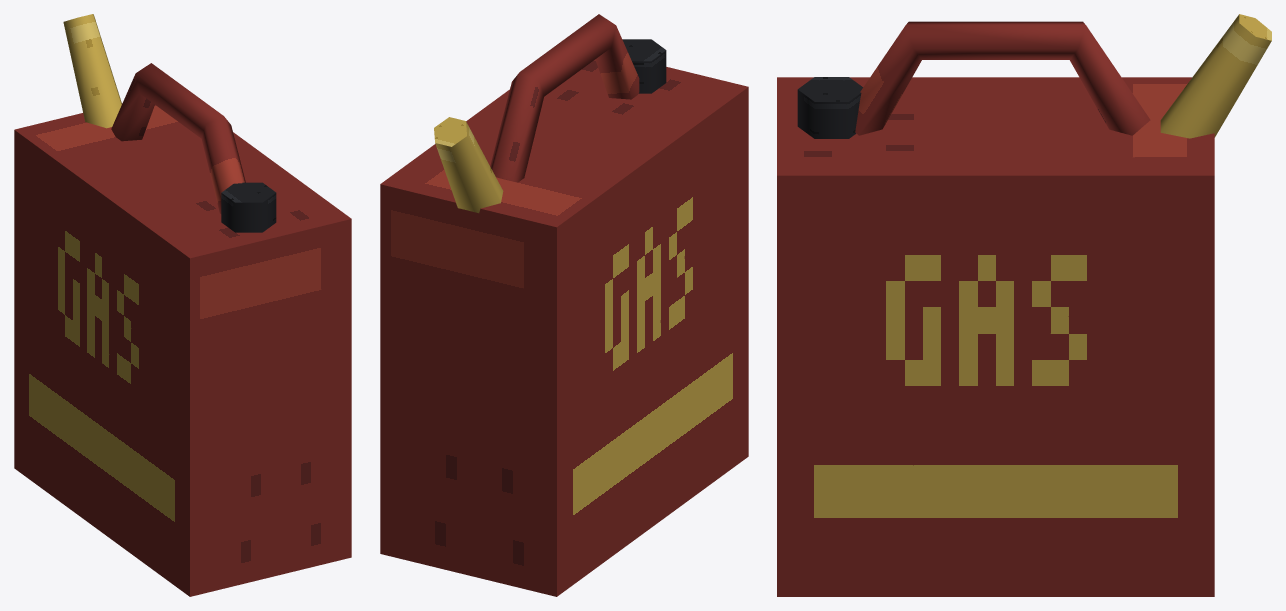
The model's file is TRN_GasCan.glb.
3 views of the same model, side by side, from view 1: azimuth 30°, elevation 25°; view 2: azimuth 150°, elevation 25°; view 3: azimuth 270°, elevation 25° (orthographic). The views are drawn at different scales.
Visible parts, largest first — view 1: TRN_GasCan_Mesh; view 2: TRN_GasCan_Mesh; view 3: TRN_GasCan_Mesh.
Part boxes in pixels (bbox=[...]): TRN_GasCan_Mesh: bbox=[14, 14, 351, 596]; TRN_GasCan_Mesh: bbox=[380, 14, 748, 596]; TRN_GasCan_Mesh: bbox=[777, 14, 1271, 596].
Size of what is drawn, in the model's own units: 0.17 by 0.4271 by 0.3619.
Materials: 1 (1 with a texture image).
